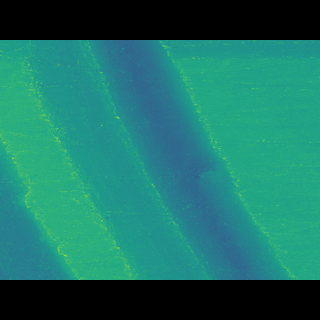Loch: (77, 69, 296, 250), (0, 142, 75, 249)
